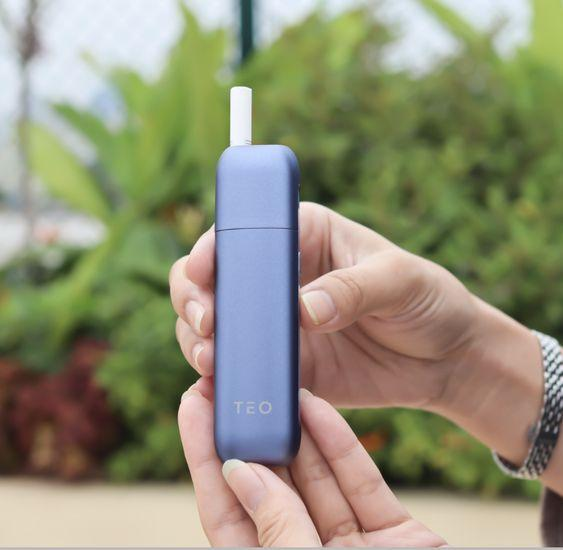iqos: (215, 86, 299, 464)
